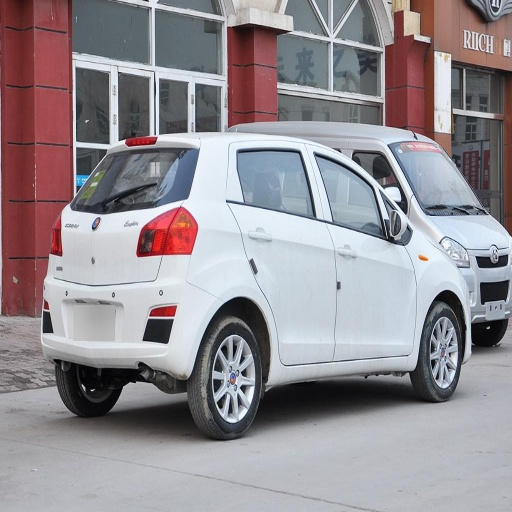back_bumper: (43, 255, 215, 378)
back_right_door: (227, 142, 334, 360)
back_right_light: (139, 217, 197, 255)
front_right_door: (314, 147, 416, 359)
trunk: (54, 212, 172, 312)
